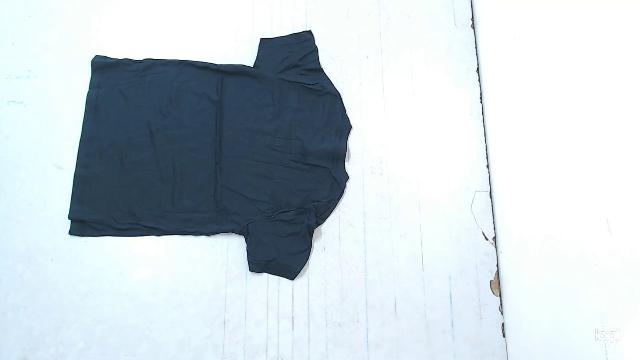new-garment: (68, 31, 351, 280)
